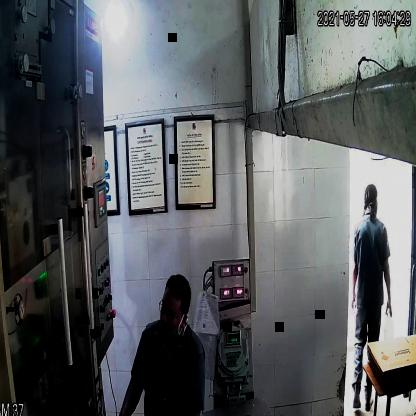goggles: (153, 298, 186, 325)
